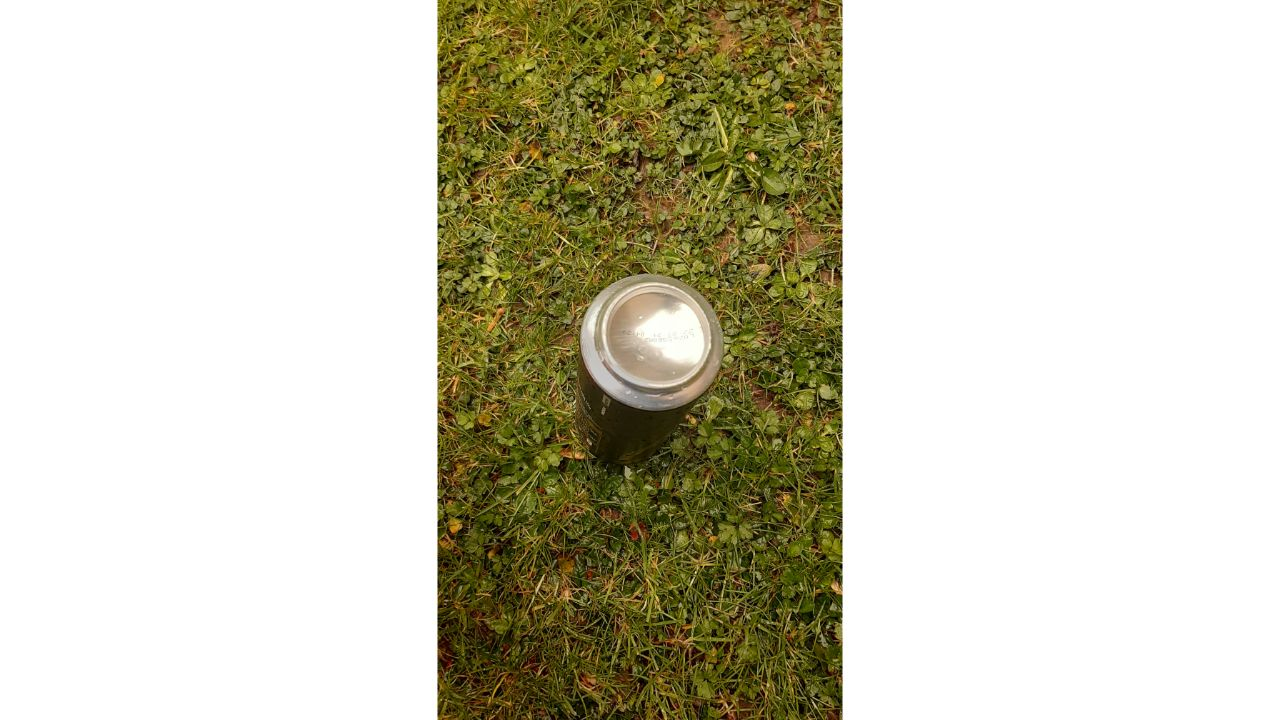Can: (556, 263, 737, 486)
